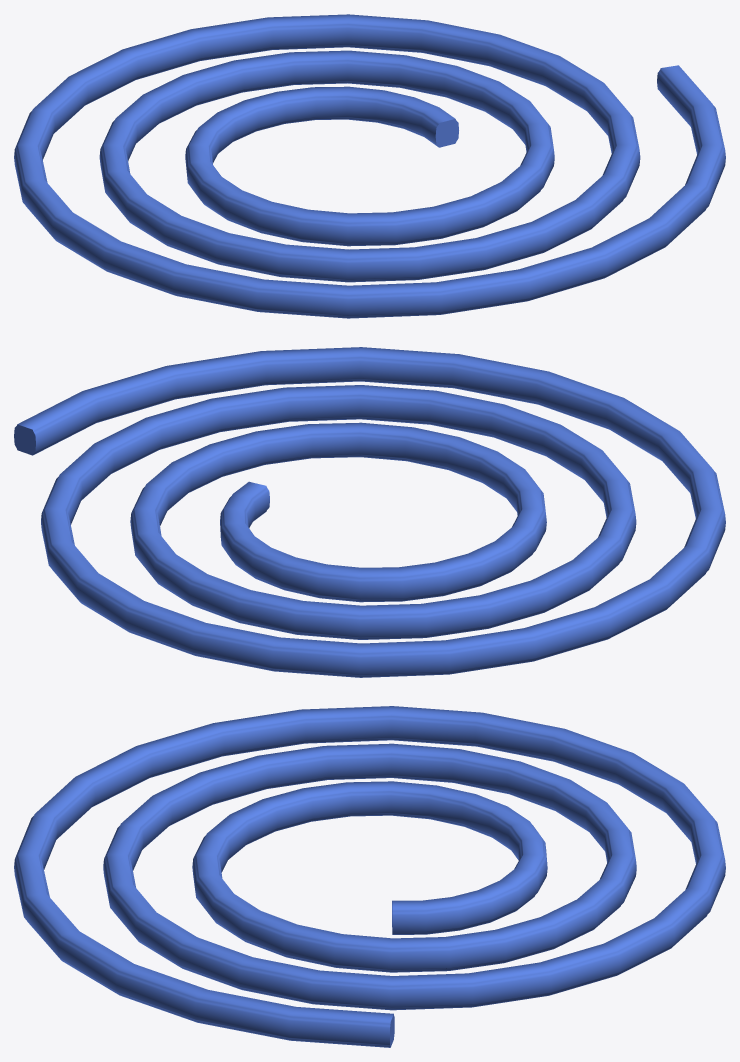
Rendered from uzumaki.fbx.
The picture shows the model from 3 angles, top to bottom: view 1: azimuth 30°, elevation 25°; view 2: azimuth 150°, elevation 25°; view 3: azimuth 270°, elevation 25°; orthographic projection. The views are drawn at different scales.
Visible parts, largest first — view 1: Spiral.001; view 2: Spiral.001; view 3: Spiral.001.
Part boxes in pixels (x1,y1,x2,y2): Spiral.001: [14, 14, 725, 318]; Spiral.001: [14, 347, 725, 677]; Spiral.001: [14, 706, 725, 1047].
Size of the model in its own units: 636 by 24 by 599.
